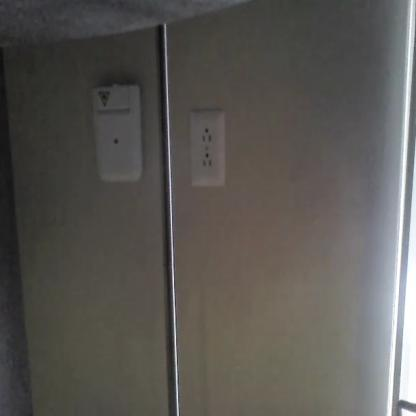OUTLET: (190, 110, 225, 188)
